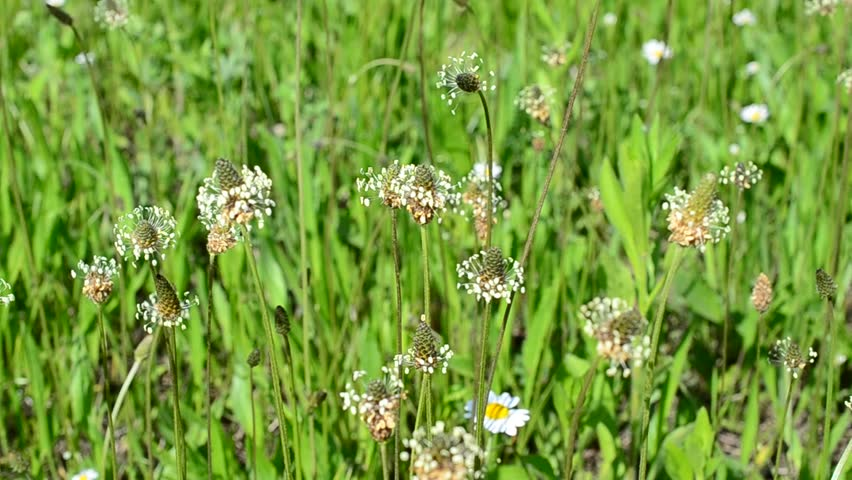buckhorn plantain: (55, 63, 795, 452)
